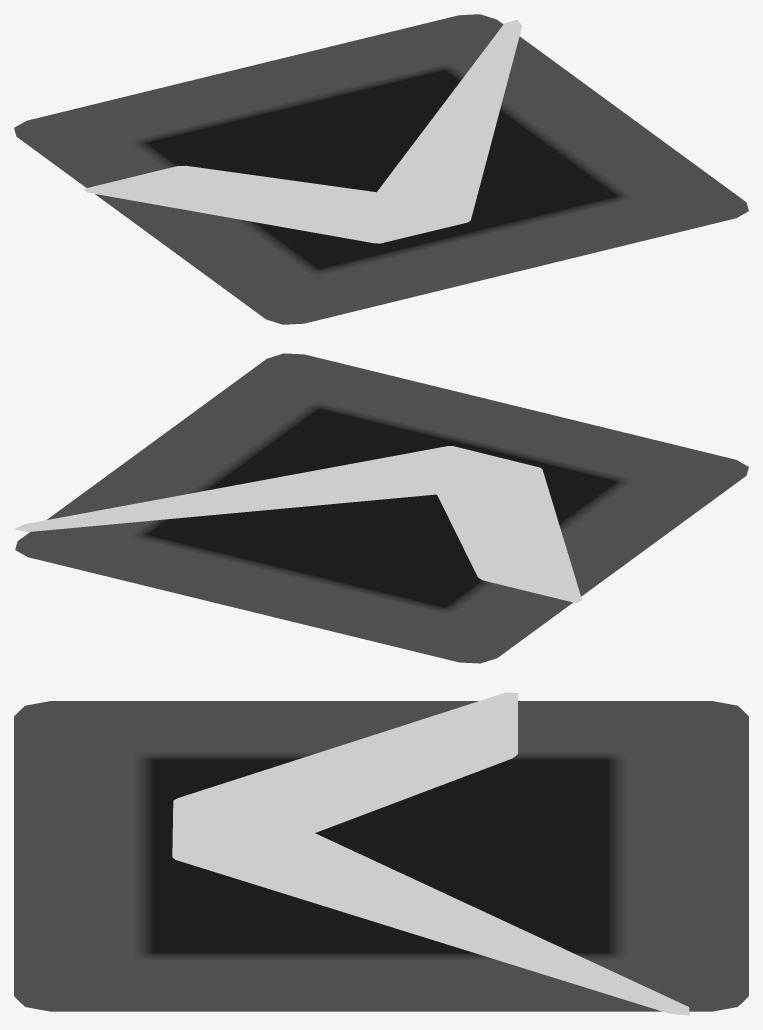
Rendered from CheckBox.glb.
3 renders of one model, top to bottom at view 1: azimuth 30°, elevation 25°; view 2: azimuth 150°, elevation 25°; view 3: azimuth 270°, elevation 25°, orthographic. The views are drawn at different scales.
Parts seen in each view (by area): view 1: Plane, Check; view 2: Plane, Check; view 3: Plane, Check.
Boxes of the visible parts, <box> form: Plane: <box>14,14,748,324</box>; Check: <box>84,20,522,243</box>; Plane: <box>15,353,748,663</box>; Check: <box>14,446,581,603</box>; Plane: <box>14,701,748,1011</box>; Check: <box>172,692,689,1015</box>.
Bounding box in the file's own units: 0.358 × 0.002 × 0.3441.
Materials: 2 (1 with a texture image).
